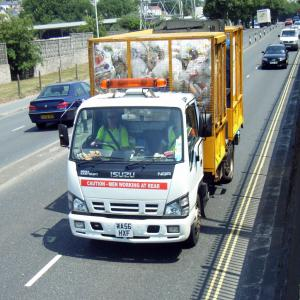Vehicle-registration-plate: (116, 223, 134, 240), (42, 115, 54, 120), (270, 62, 278, 65)
